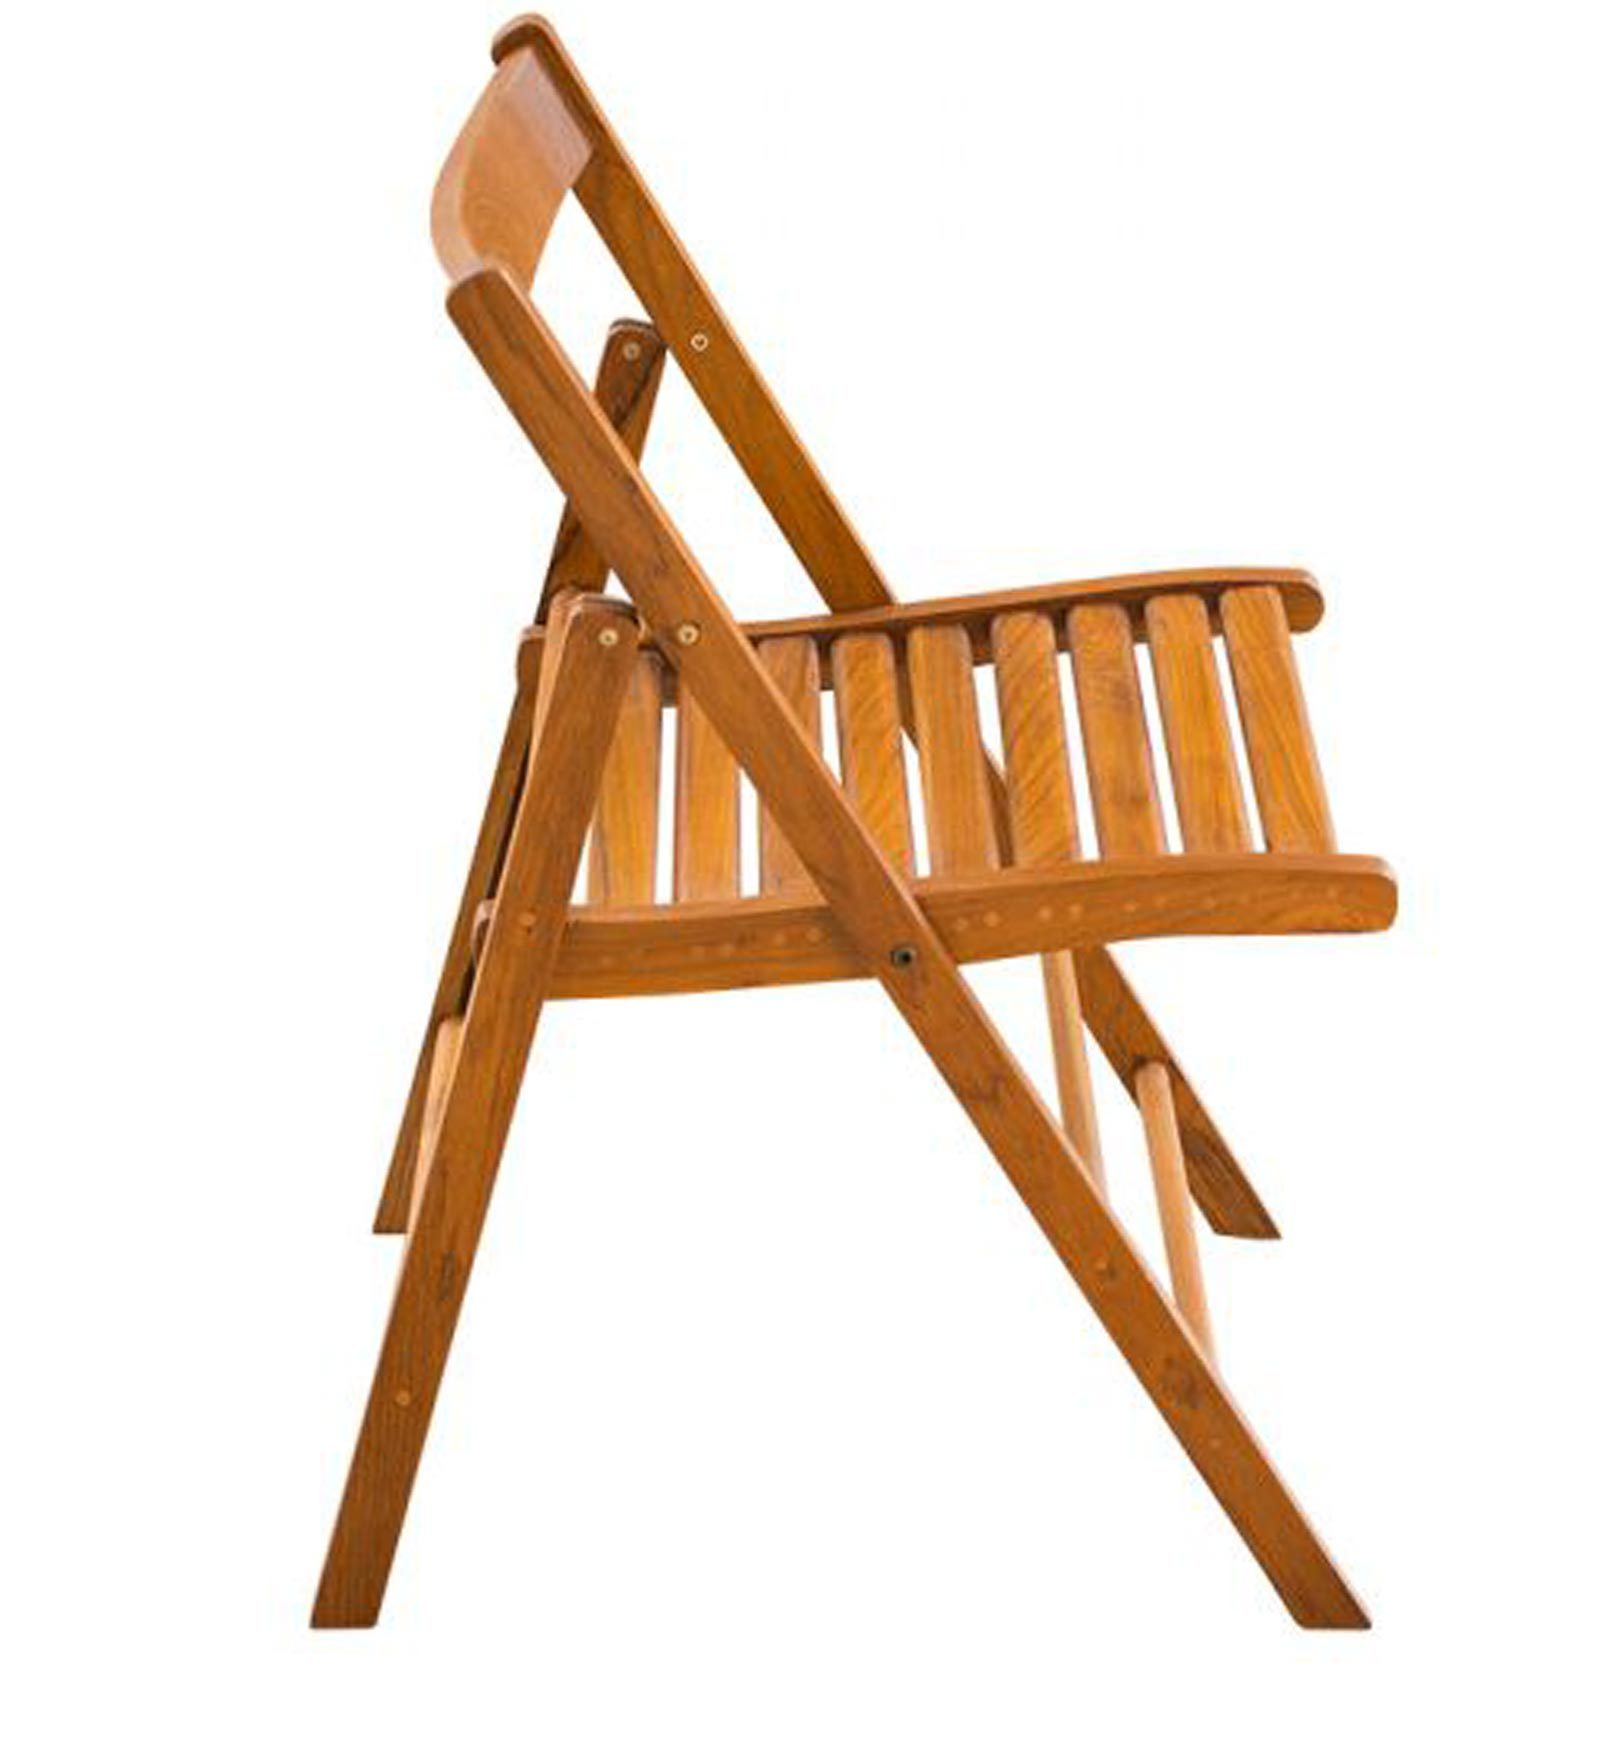Aspen Folding Chair by InLiving: (215, 20, 1425, 1702)
